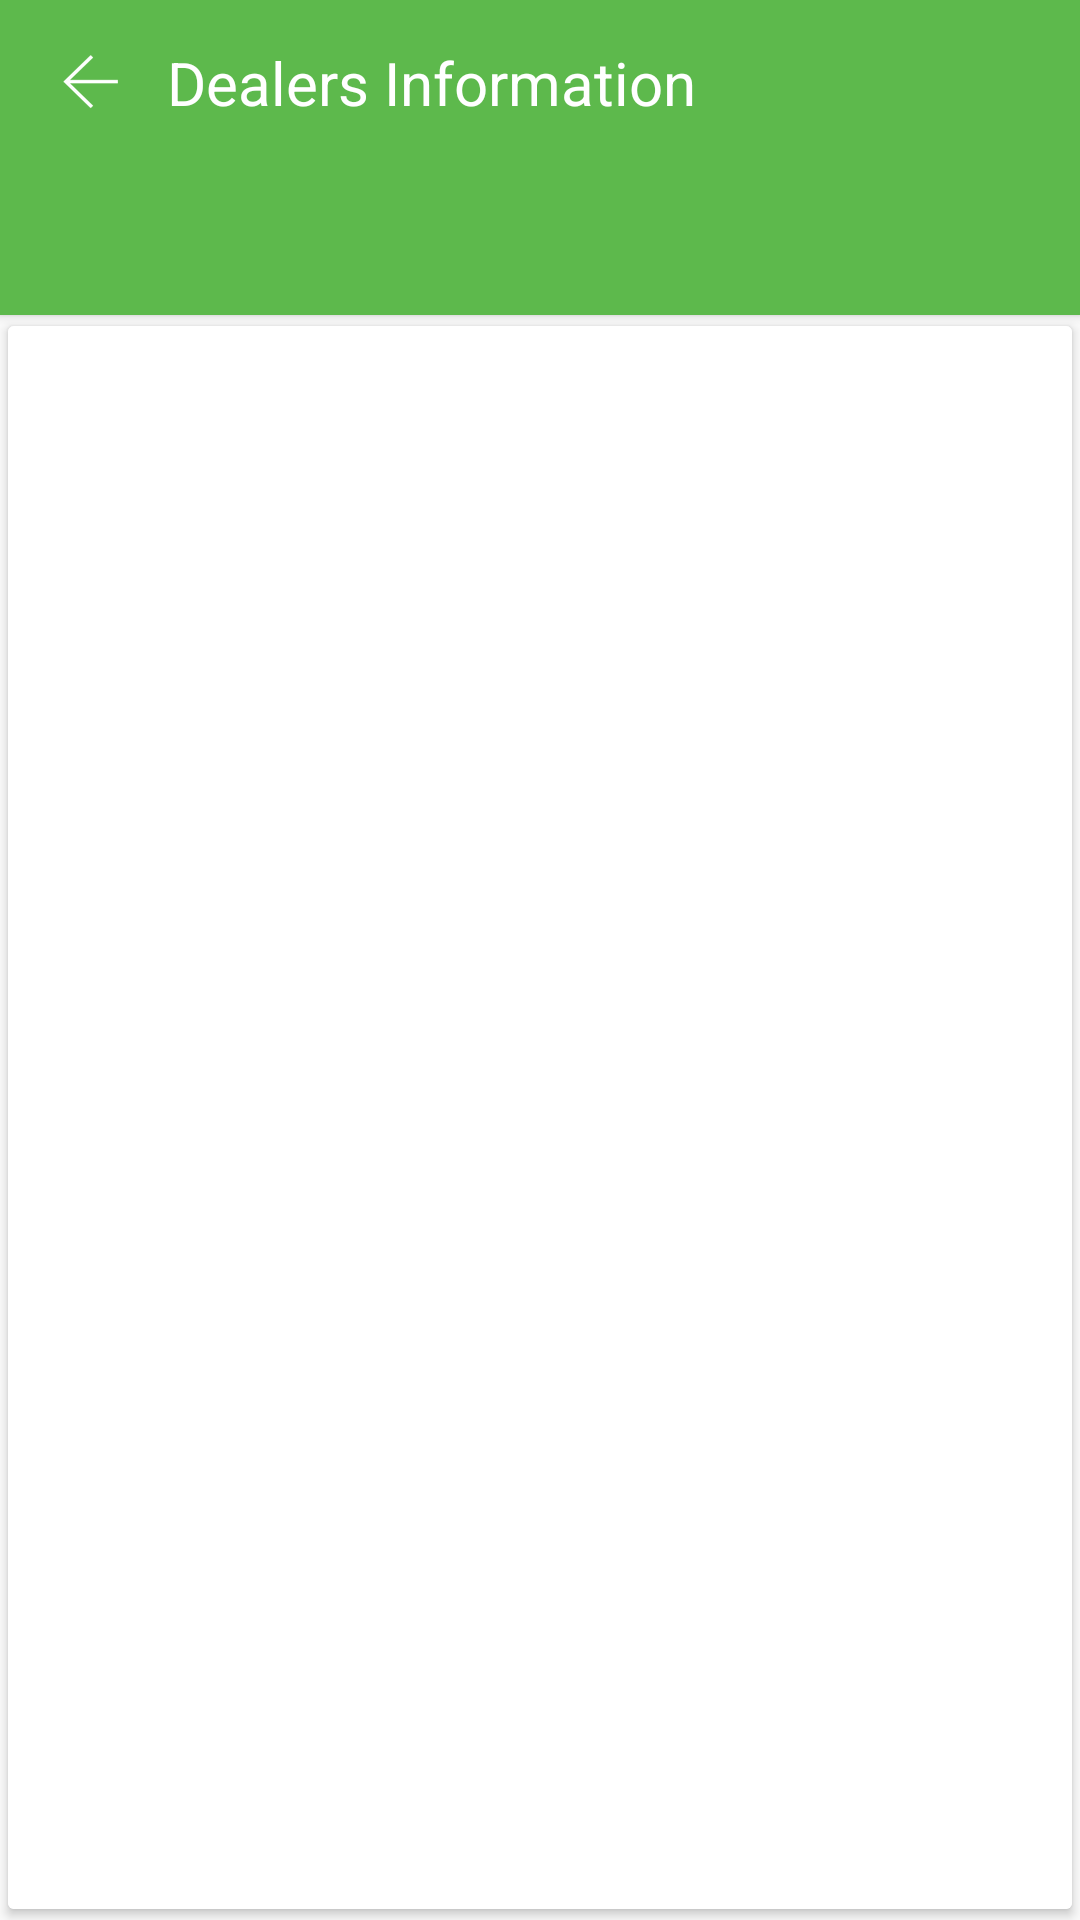

Icons on this 1080*1920 Android screen, each with its box as Rect(x1, y1, x2, y2):
back: Rect(63, 55, 118, 108)
